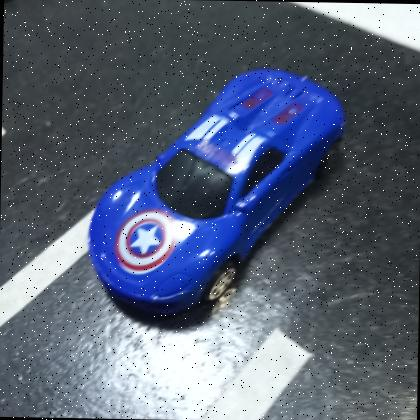Car: (86, 69, 346, 328)
